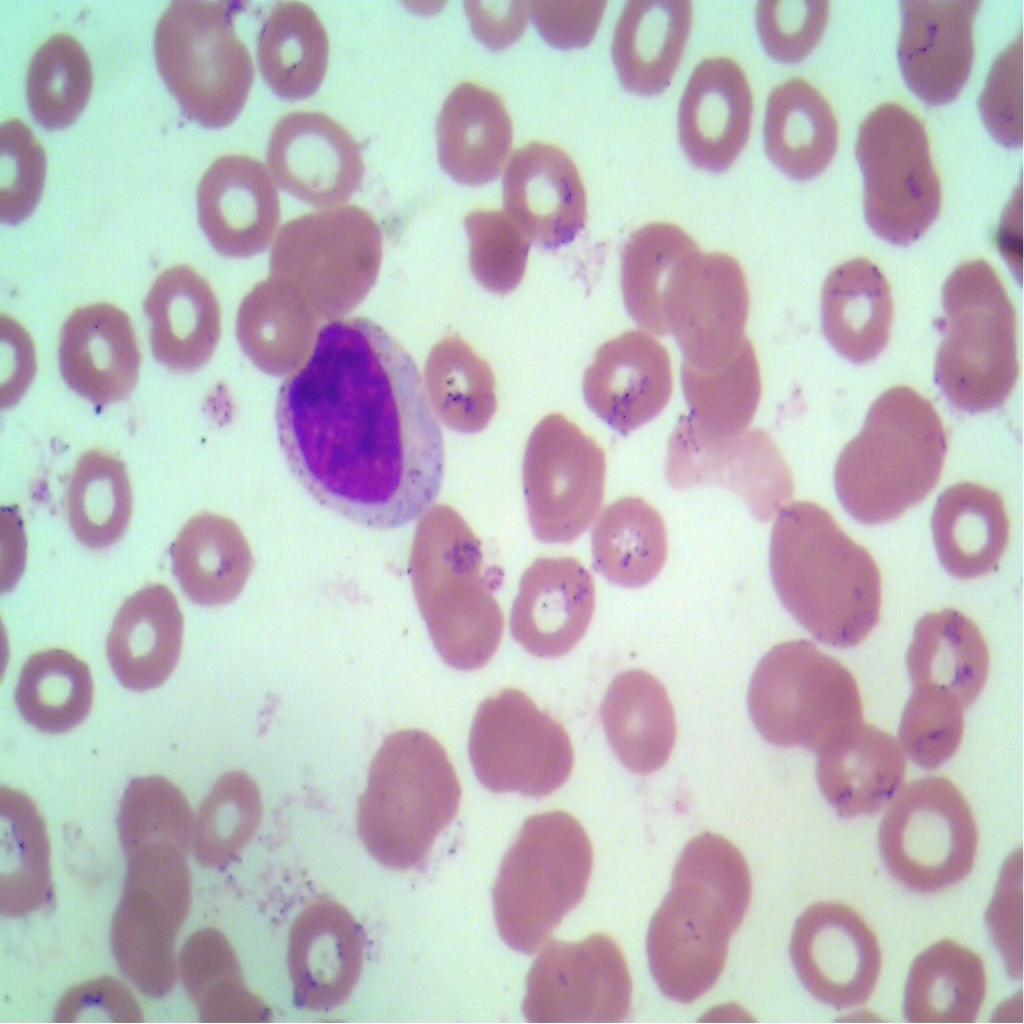Eritrosit: (139, 0, 259, 142), (348, 724, 462, 868), (266, 189, 386, 319), (879, 771, 986, 908), (54, 291, 150, 431), (416, 64, 518, 194), (50, 435, 144, 568), (266, 94, 370, 214), (779, 890, 888, 1004), (273, 890, 369, 1018), (570, 322, 674, 439), (98, 578, 193, 702), (518, 411, 604, 544), (810, 239, 898, 367), (10, 24, 106, 138), (673, 52, 755, 184), (4, 628, 98, 742), (756, 75, 846, 192), (595, 662, 686, 776), (598, 0, 696, 105), (503, 548, 596, 658), (928, 467, 1011, 589), (666, 248, 752, 365), (190, 144, 281, 254), (498, 144, 595, 247), (170, 494, 260, 605), (749, 628, 833, 745), (249, 0, 349, 98), (104, 892, 184, 1014), (618, 212, 698, 334), (816, 714, 903, 826), (898, 602, 988, 710), (112, 760, 198, 870), (806, 539, 888, 654), (646, 892, 730, 1004), (142, 264, 224, 378), (674, 829, 755, 941), (858, 388, 946, 491), (935, 307, 1018, 415), (231, 275, 318, 376), (584, 484, 670, 586), (939, 247, 1023, 351), (898, 934, 996, 1023), (190, 751, 260, 874), (510, 797, 592, 900), (471, 682, 546, 794), (681, 335, 761, 440), (768, 484, 835, 604), (830, 432, 914, 527), (118, 838, 199, 934), (411, 498, 481, 607), (788, 657, 862, 755), (861, 161, 948, 244), (430, 327, 498, 432), (452, 208, 534, 294), (496, 848, 566, 948), (430, 575, 500, 675), (899, 9, 975, 100), (850, 100, 926, 188), (176, 917, 239, 1023), (890, 682, 964, 771), (566, 931, 635, 1023), (521, 941, 591, 1023)
Monosit: (266, 313, 454, 542)
Platelet: (929, 302, 951, 332), (86, 397, 112, 421)
